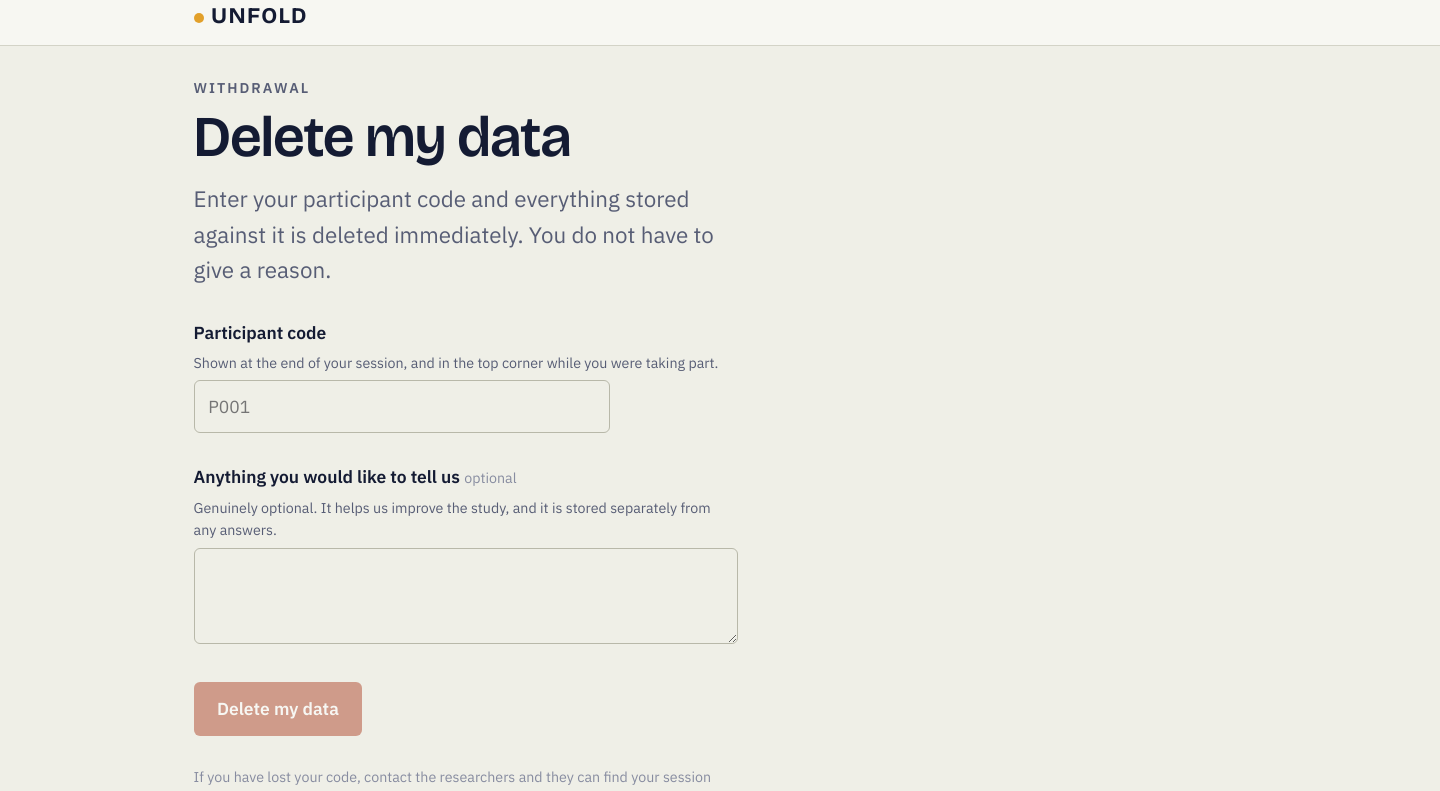
Test: the withdrawal page requires confirmation before deleting
Type "P042" into the field labelled "Participant code" at (402, 407), box [194,380,610,433]
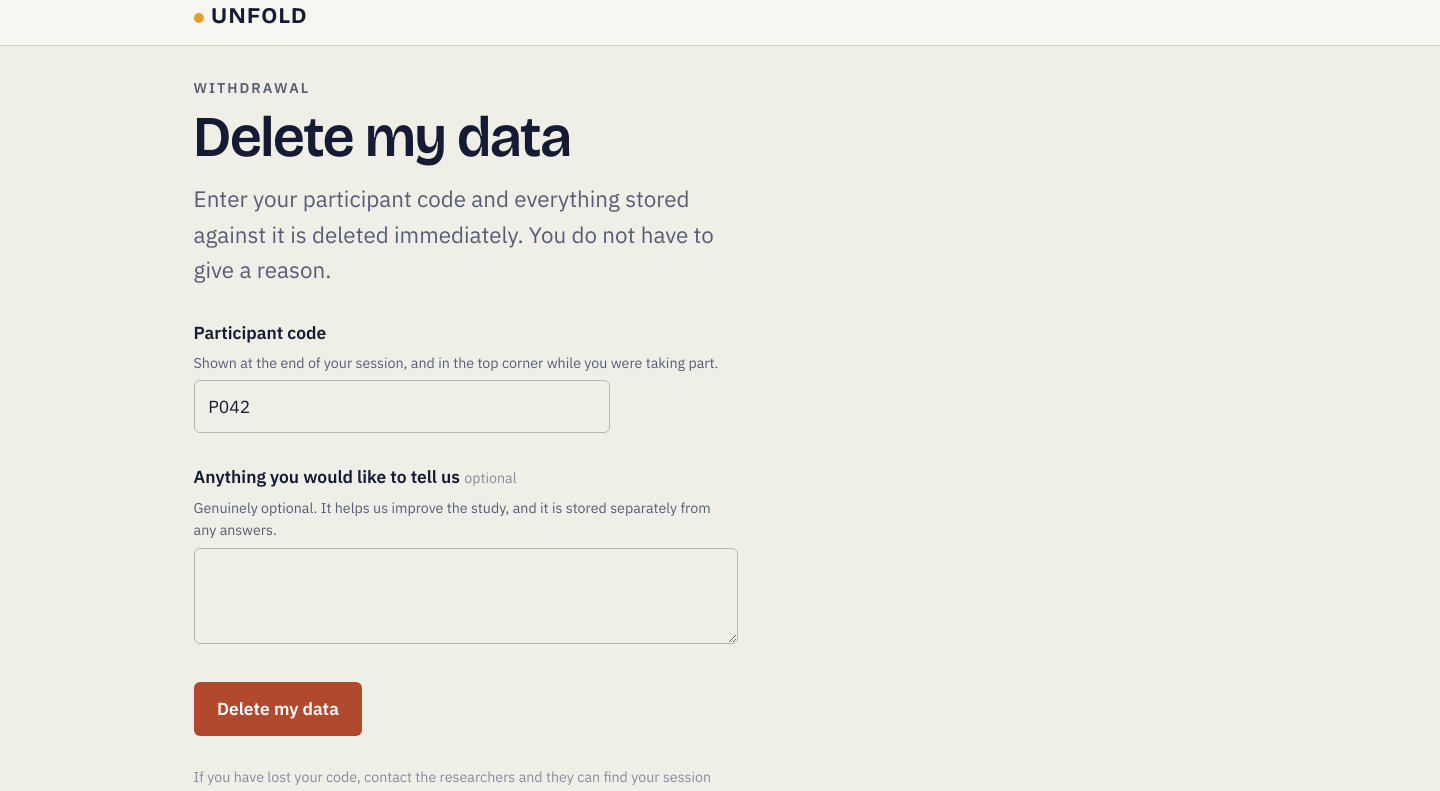
Click the button "Delete my data" at (278, 709), box [194,682,362,736]
(page scrolled)
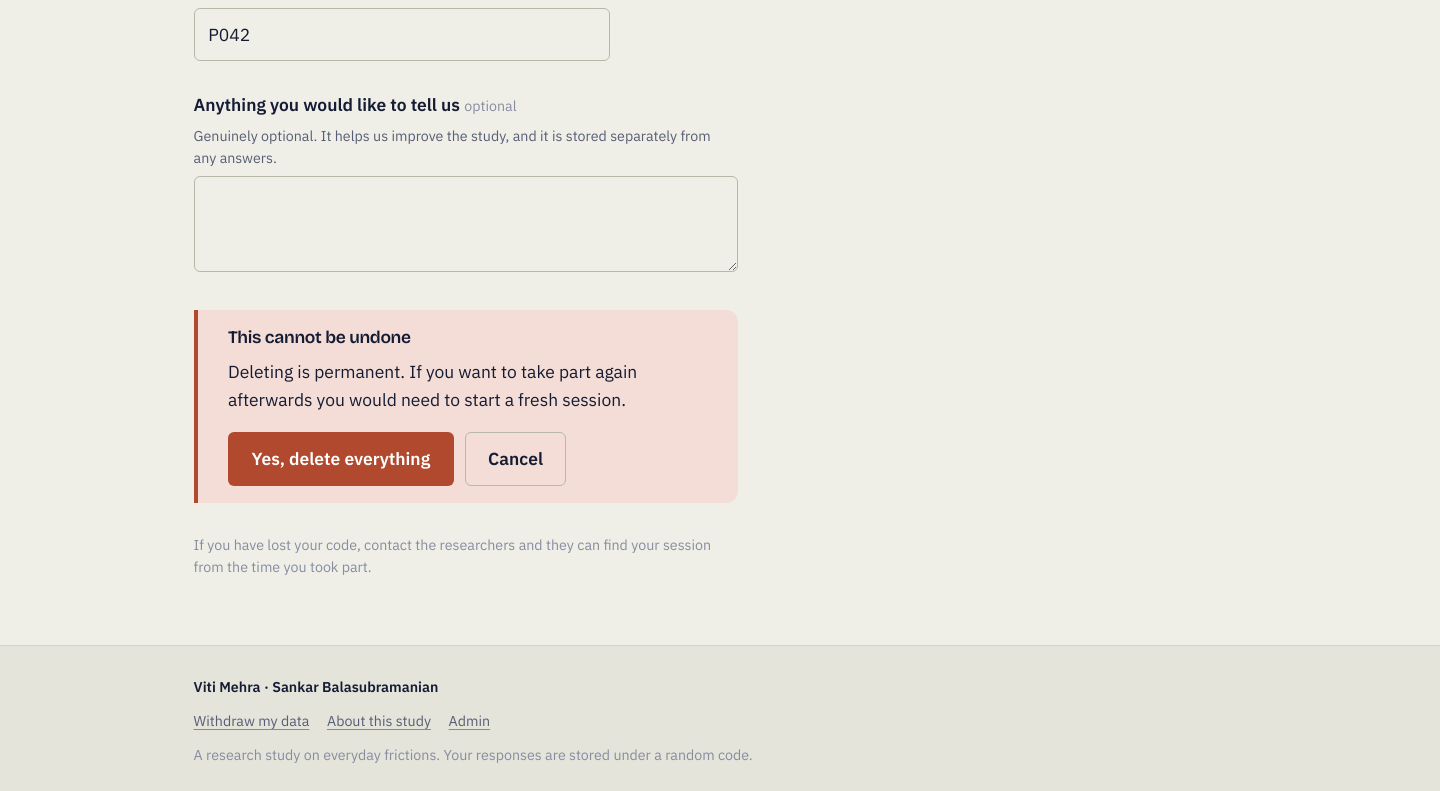
Result: the button "Yes, delete everything" is shown at [228,432,454,486]
Result: the text "cannot be undone" is shown at [228,327,411,348]
